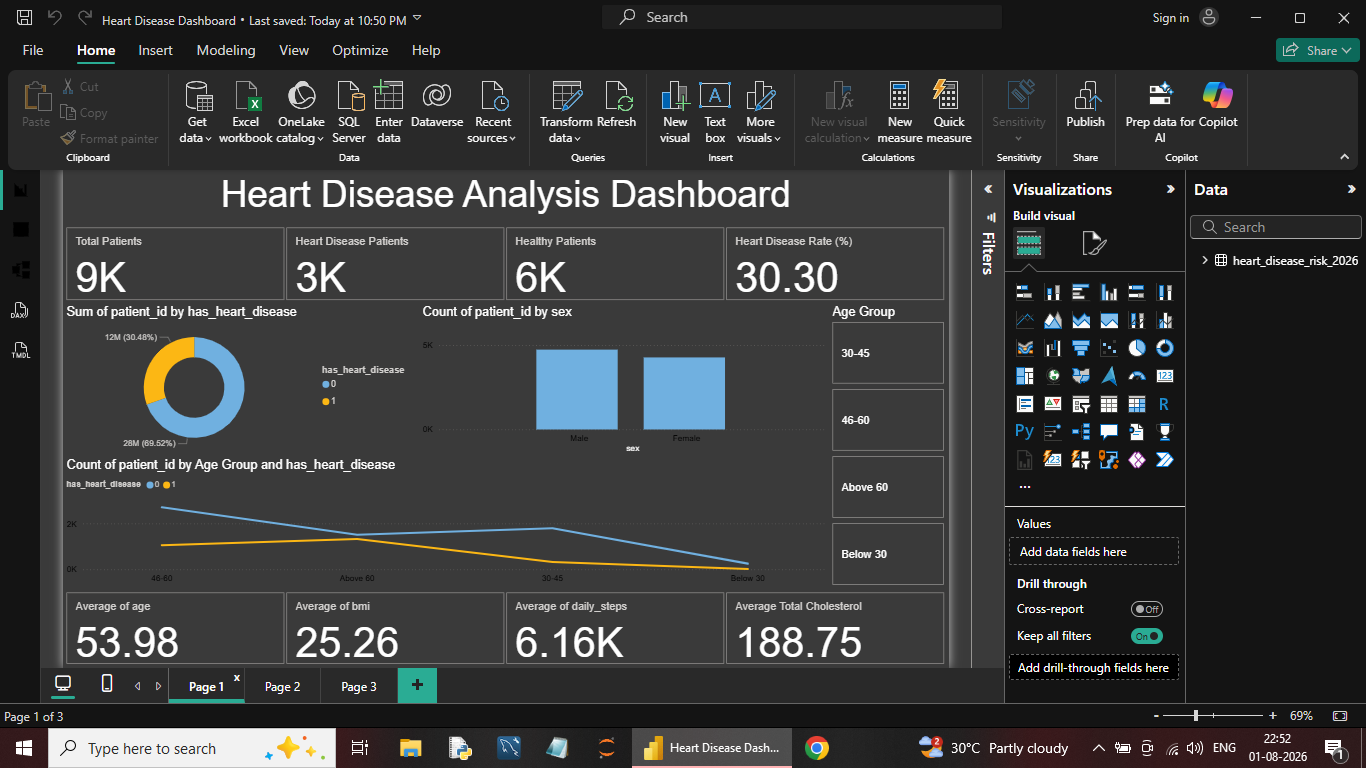

This screenshot's page, from the dashboard's own definition file:
{"tool":"powerbi","page":{"name":"Page 1","canvas":[1280,720],"ordinal":0},"visuals":[{"type":"cardVisual","fields":{"Data":["heart_disease_risk_2026.Total Patients","heart_disease_risk_2026.Heart Disease Patients","heart_disease_risk_2026.Healthy Patients","heart_disease_risk_2026.Heart Disease Rate (%)"]},"box":[0,78.5,1280,115.9],"z":0},{"type":"cardVisual","fields":{"Data":["Avg(heart_disease_risk_2026.age)","Avg(heart_disease_risk_2026.bmi)","Avg(heart_disease_risk_2026.daily_steps)","heart_disease_risk_2026.Average Total Cholesterol"]},"box":[0,605.4,1280,114],"z":1000},{"type":"textbox","box":[0,0,1280,78.5],"z":2000},{"type":"donutChart","fields":{"Category":["heart_disease_risk_2026.has_heart_disease"],"Y":["Sum(heart_disease_risk_2026.patient_id)"]},"box":[0,194,514.3,220.4],"z":3000},{"type":"clusteredColumnChart","fields":{"Y":["Count(heart_disease_risk_2026.patient_id)"],"Category":["heart_disease_risk_2026.sex"]},"box":[514.3,194,593.6,220.4],"z":4000},{"type":"advancedSlicerVisual","fields":{"Values":["heart_disease_risk_2026.Age Group"]},"box":[1108.1,194.3,171.9,411.1],"z":5000},{"type":"lineChart","fields":{"Category":["heart_disease_risk_2026.Age Group"],"Series":["heart_disease_risk_2026.has_heart_disease"],"Y":["Count(heart_disease_risk_2026.patient_id)"]},"box":[0,414.8,1108.1,190.6],"z":6000}]}

Visuals, with their boxes on the page's 1280x720 design canvas (x1, y1, x2, y2). These are canvas units, not pixel positions in the 1366x768 screenshot, which may show the page scaled, cropped or inside an application window:
cardVisual - heart_disease_risk_2026.Total Patients x heart_disease_risk_2026.Heart Disease Patients: box=[0, 78, 1280, 194]
cardVisual - Avg(heart_disease_risk_2026.age) x Avg(heart_disease_risk_2026.bmi): box=[0, 605, 1280, 719]
textbox: box=[0, 0, 1280, 78]
donutChart - heart_disease_risk_2026.has_heart_disease x Sum(heart_disease_risk_2026.patient_id): box=[0, 194, 514, 414]
clusteredColumnChart - Count(heart_disease_risk_2026.patient_id) x heart_disease_risk_2026.sex: box=[514, 194, 1108, 414]
advancedSlicerVisual - heart_disease_risk_2026.Age Group: box=[1108, 194, 1280, 605]
lineChart - heart_disease_risk_2026.Age Group x heart_disease_risk_2026.has_heart_disease: box=[0, 415, 1108, 605]
